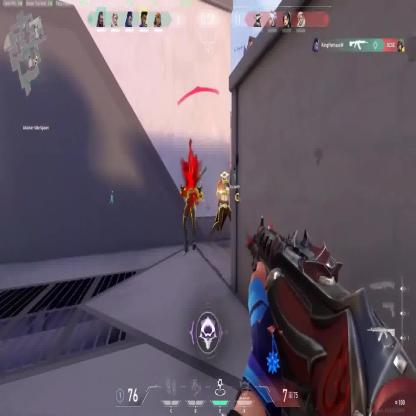enemy: (209, 171, 240, 245), (220, 171, 229, 182)
